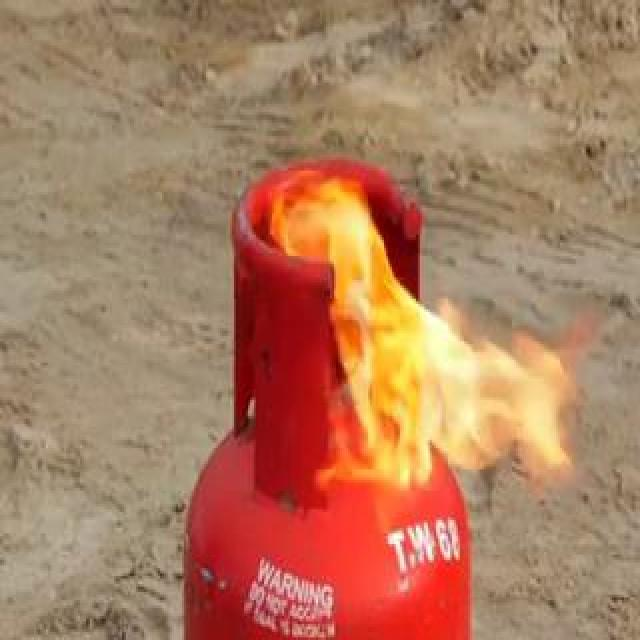Fire: (241, 113, 569, 506)
